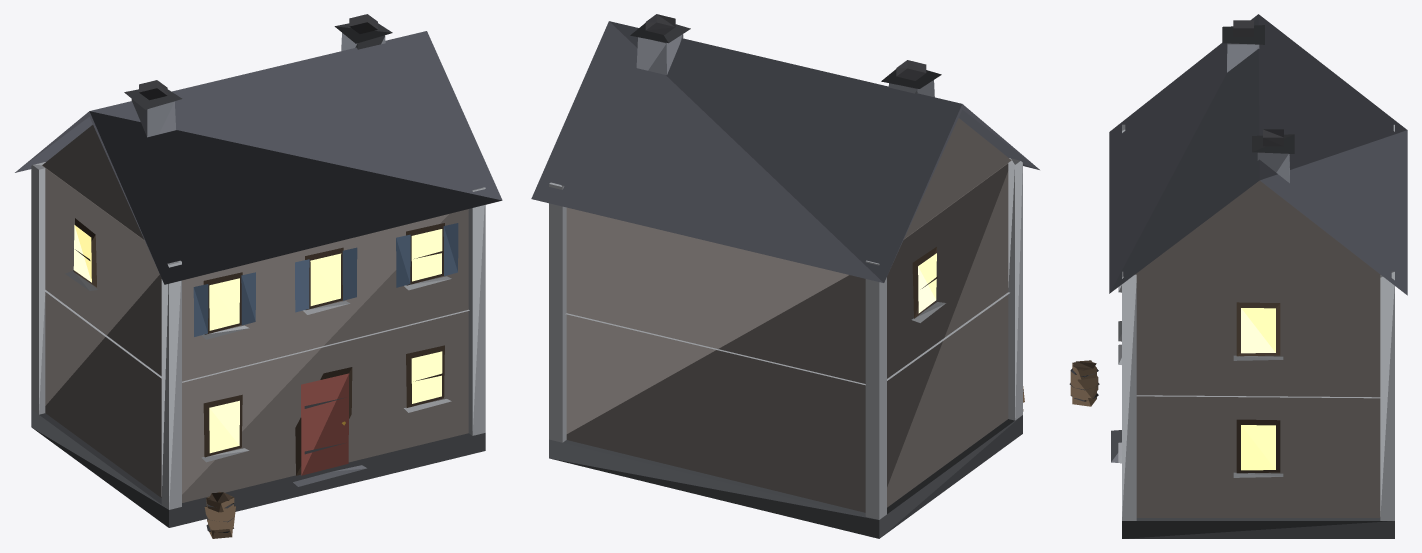
Rendered from bree_house_stone_1_lod1.glb.
3 renders of one model, left to right at view 1: azimuth 30°, elevation 25°; view 2: azimuth 150°, elevation 25°; view 3: azimuth 270°, elevation 25°, orthographic. The views are drawn at different scales.
Visible parts, largest first — view 1: bree_house_stone_1_lod1; view 2: bree_house_stone_1_lod1; view 3: bree_house_stone_1_lod1.
Boxes of the visible parts, bbox=[...] form: bree_house_stone_1_lod1: bbox=[15, 14, 502, 538]; bree_house_stone_1_lod1: bbox=[531, 14, 1039, 538]; bree_house_stone_1_lod1: bbox=[1069, 14, 1407, 538].
Bounding box in the file's own units: 7.8 × 8.51 × 6.81.
